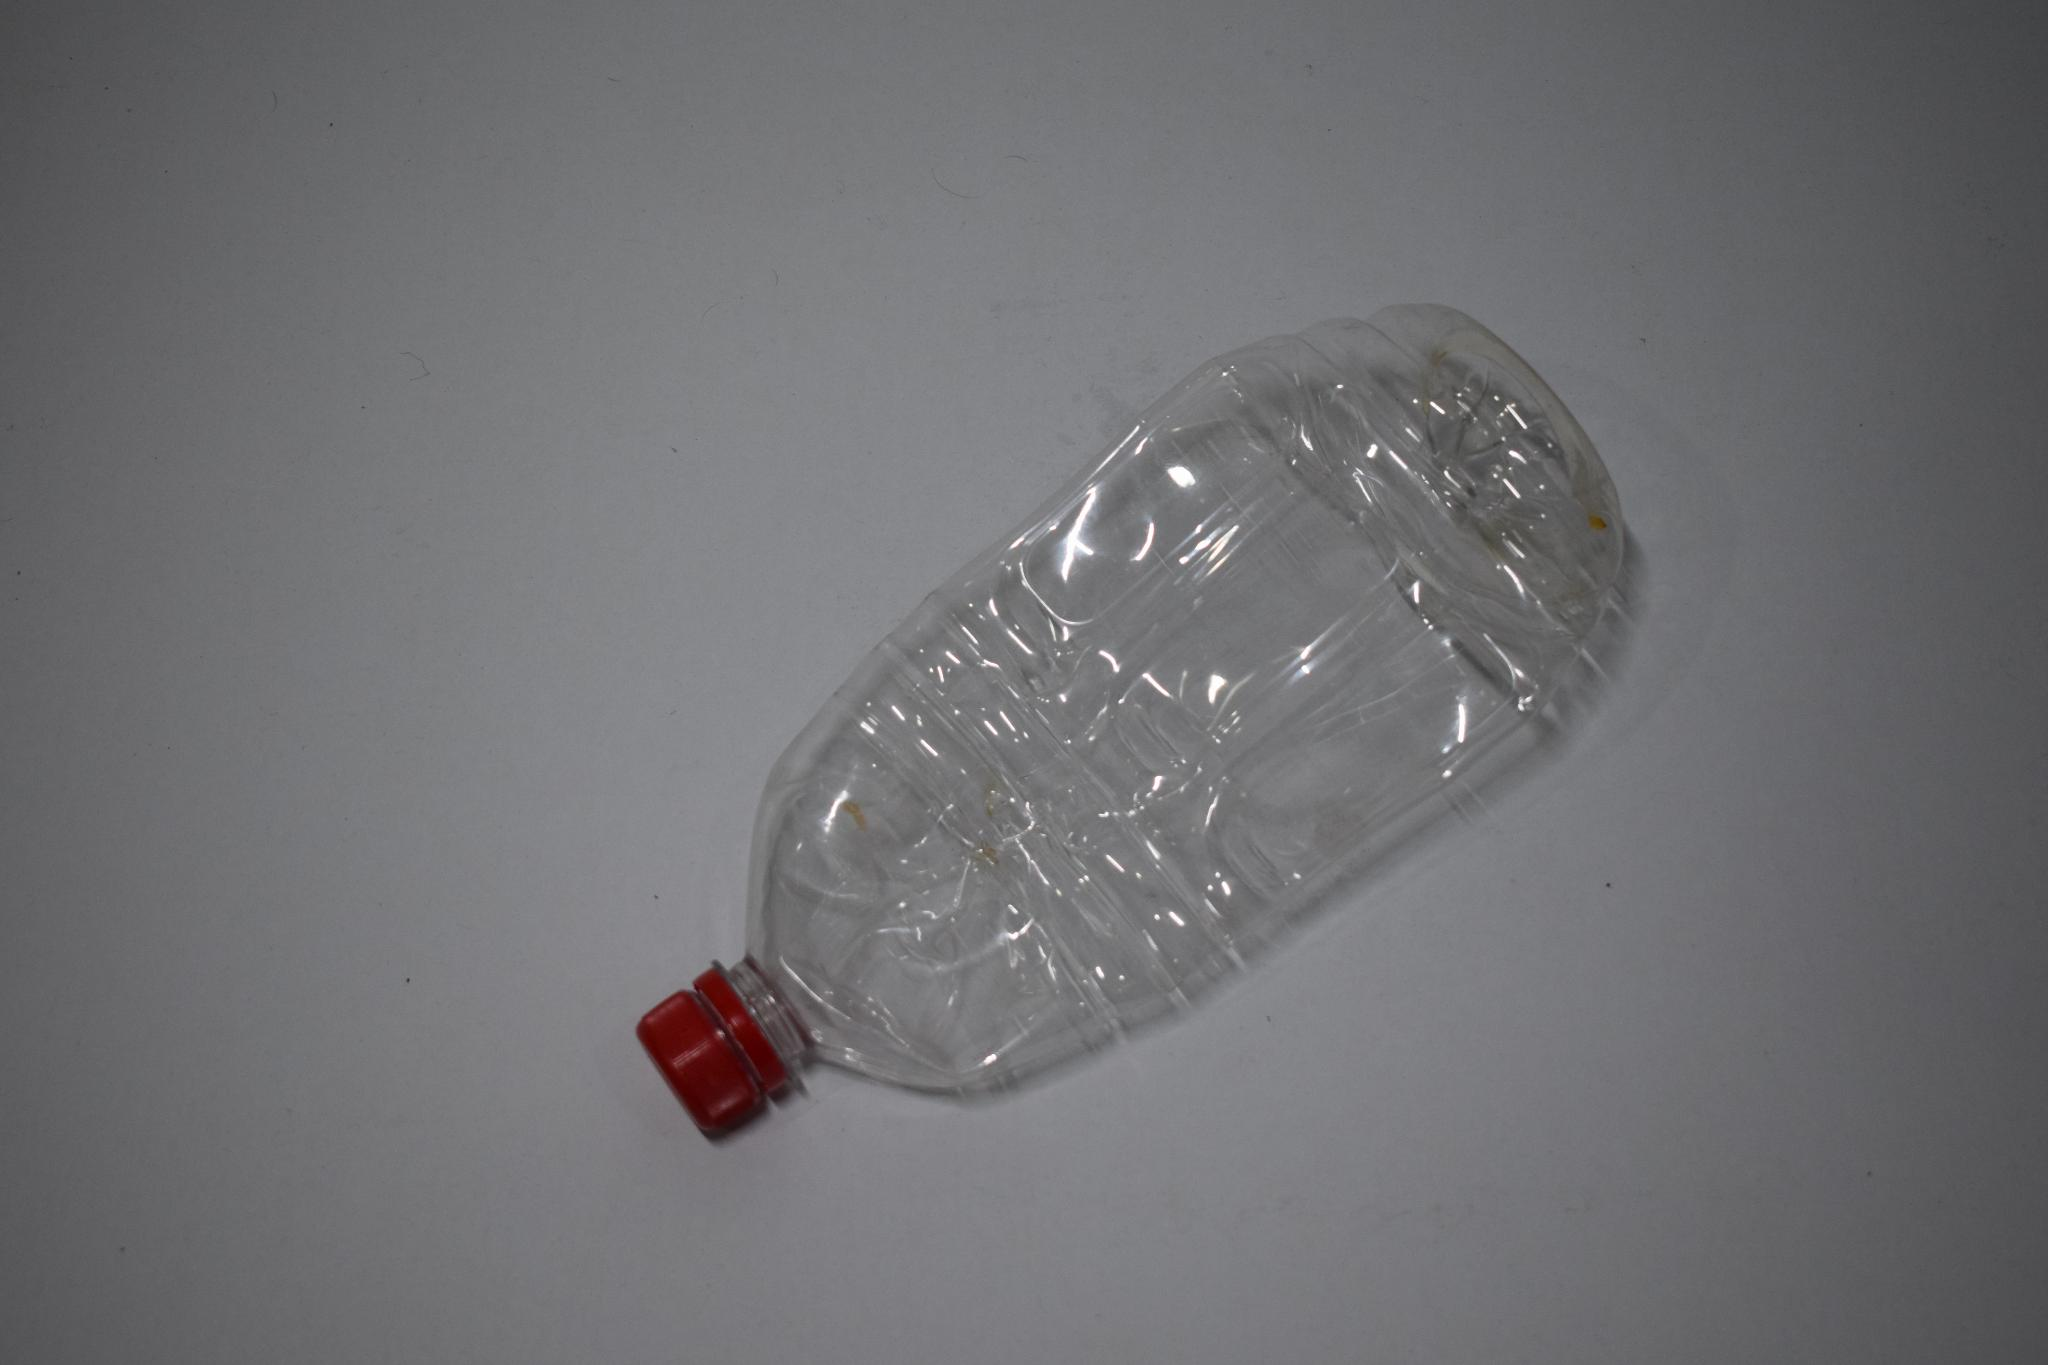bottle: (420, 256, 1658, 1150)
